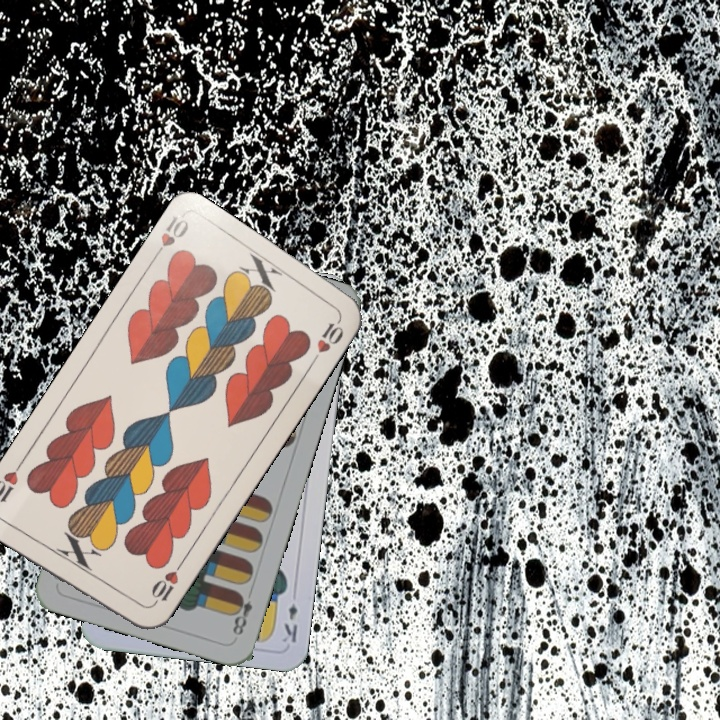E8: (228, 584, 256, 638)
EK: (278, 600, 300, 645)
H10: (147, 211, 192, 264), (145, 558, 185, 610)
